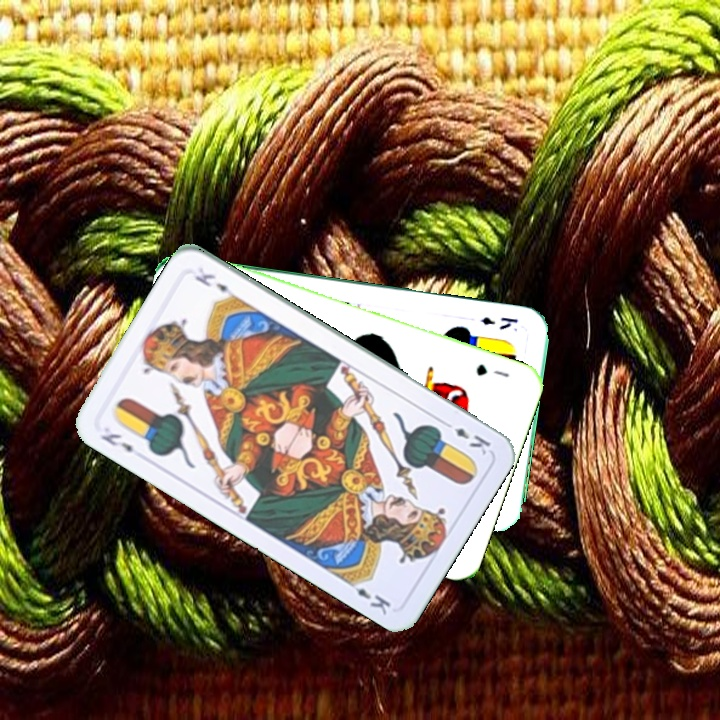EK: (438, 416, 493, 458), (96, 429, 136, 455), (477, 312, 521, 333)
GU: (472, 359, 512, 380)
